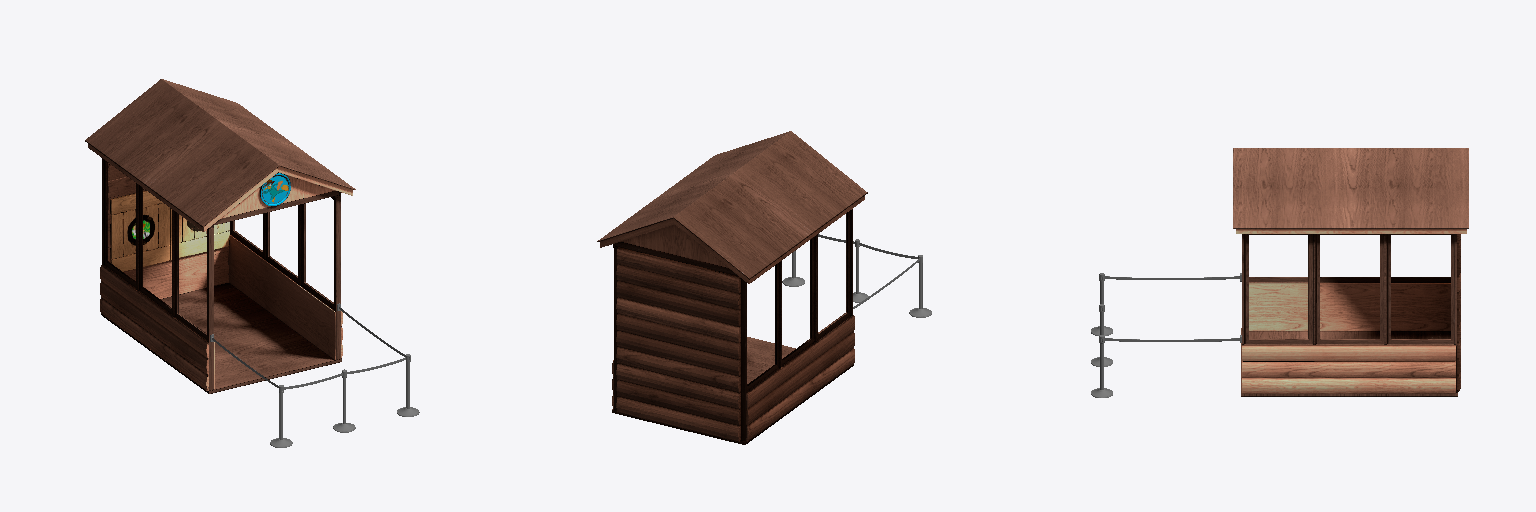
3 views of the same model, side by side, from view 1: azimuth 30°, elevation 25°; view 2: azimuth 150°, elevation 25°; view 3: azimuth 270°, elevation 25° (orthographic).
Parts seen in each view (by area): view 1: model_1, model_0; view 2: model_1, model_0; view 3: model_1, model_0.
Part boxes in pixels (bbox=[...]): model_1: bbox=[85, 79, 355, 393]; model_0: bbox=[210, 303, 419, 447]; model_1: bbox=[597, 131, 867, 444]; model_0: bbox=[782, 234, 931, 317]; model_1: bbox=[1233, 148, 1468, 396]; model_0: bbox=[1091, 273, 1241, 397].
Bounding box in the file's own units: 23.59 × 31.84 × 50.61.
2 materials, 1 textured.